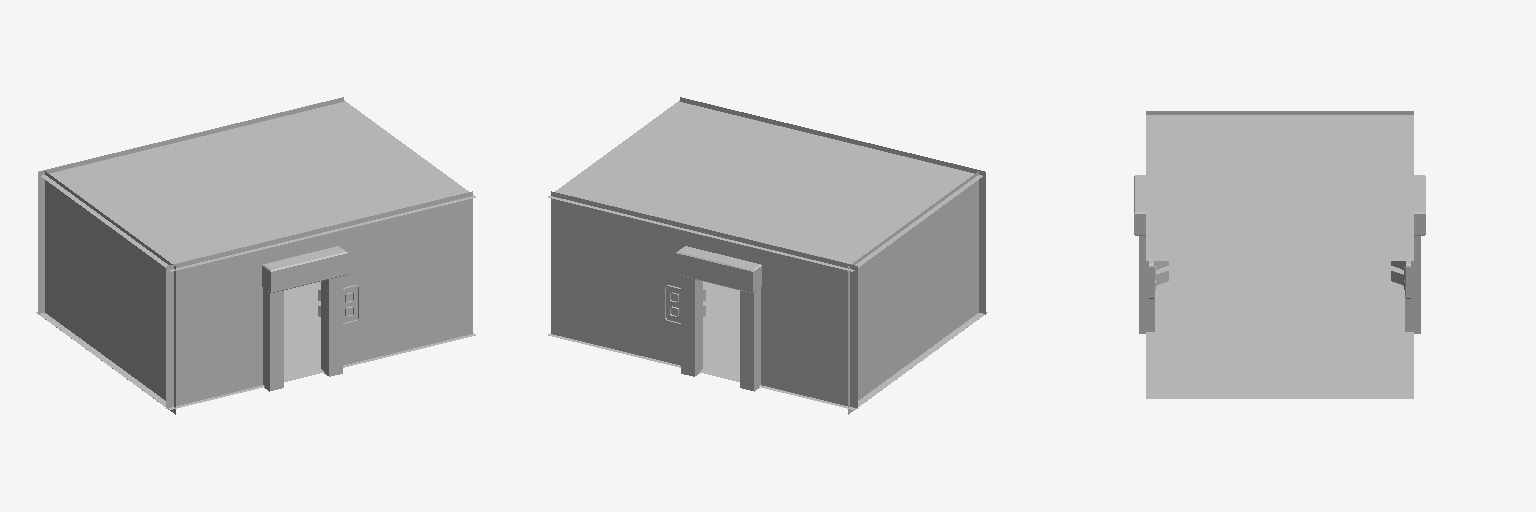
Rendered from Monitoring_Room01_UV.exported.obj.
3 views of the same model, side by side, from view 1: azimuth 30°, elevation 25°; view 2: azimuth 150°, elevation 25°; view 3: azimuth 270°, elevation 25° (orthographic).
Visible parts, largest first — view 1: initialShadingGroupinitialShadingGrouppolySurface63, initialShadingGroupinitialShadingGrouppolySurface77polySurface60, initialShadingGrouppolySurface7; view 2: initialShadingGroupinitialShadingGrouppolySurface63, initialShadingGroupinitialShadingGrouppolySurface77polySurface60, initialShadingGrouppolySurface7; view 3: initialShadingGroupinitialShadingGrouppolySurface63, initialShadingGrouppolySurface7.
Part boxes in pixels (x1,y1,x2,y2): initialShadingGroupinitialShadingGrouppolySurface63: (36, 100, 475, 414); initialShadingGroupinitialShadingGrouppolySurface77polySurface60: (38, 97, 472, 408); initialShadingGrouppolySurface7: (262, 246, 358, 391); initialShadingGroupinitialShadingGrouppolySurface63: (548, 100, 987, 414); initialShadingGroupinitialShadingGrouppolySurface77polySurface60: (551, 97, 985, 408); initialShadingGrouppolySurface7: (665, 246, 761, 391); initialShadingGroupinitialShadingGrouppolySurface63: (1146, 111, 1413, 398); initialShadingGrouppolySurface7: (1134, 175, 1425, 333).
Bounding box in the file's own units: 89.31 × 41.36 × 73.28.